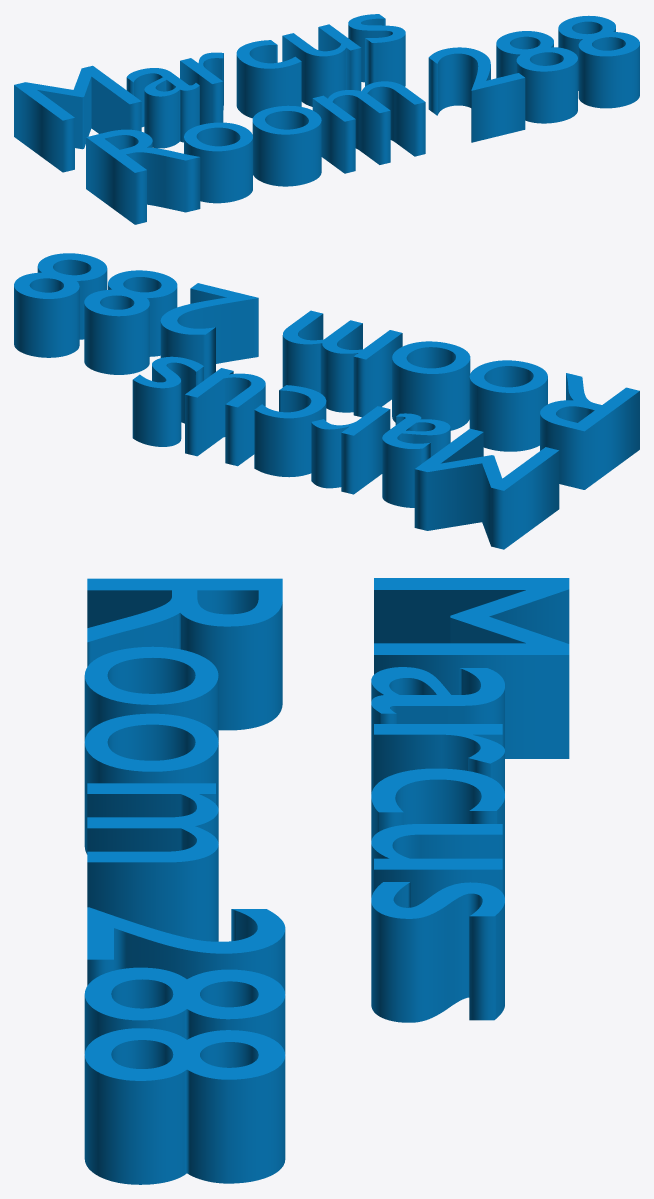
Rendered from marcus-288.gltf.
3 renders of one model, top to bottom at view 1: azimuth 30°, elevation 25°; view 2: azimuth 150°, elevation 25°; view 3: azimuth 270°, elevation 25°, orthographic. The views are drawn at different scales.
Visible parts, largest first — view 1: Text; view 2: Text; view 3: Text.
Boxes of the visible parts, bbox=[...] form: Text: bbox=[14, 14, 639, 224]; Text: bbox=[14, 253, 639, 549]; Text: bbox=[84, 578, 569, 1184].
Bounding box in the file's own units: 4.15 × 0.4 × 1.69.
